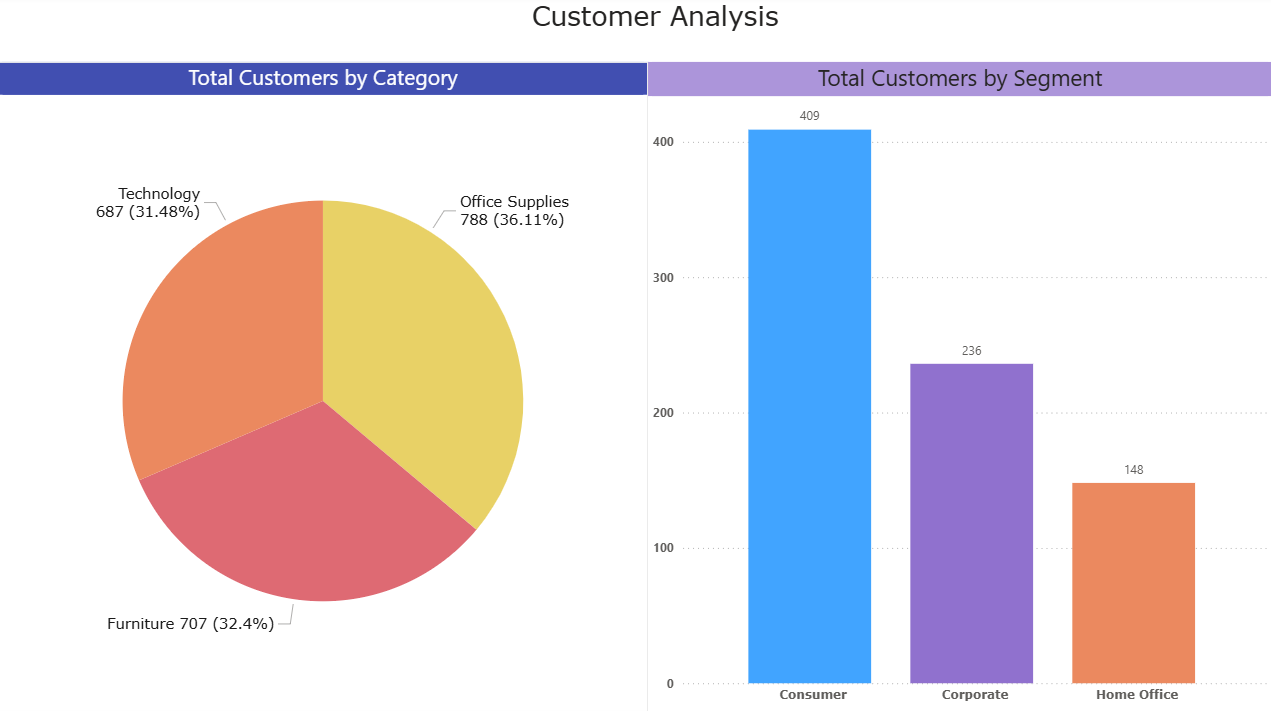

What the dashboard file says about the page in this screenshot:
{"tool":"powerbi","page":{"name":"Page 3","canvas":[1280,720],"ordinal":2},"visuals":[{"type":"pieChart","fields":{"Category":["Sales_data.Category"],"Y":["Sales_data.Total Customers"]},"box":[0,66.7,653.3,653.3],"z":0},{"type":"columnChart","fields":{"Y":["Sales_data.Total Customers"],"Category":["Sales_data.Segment"]},"box":[653.3,66.7,626.7,653.3],"z":1000},{"type":"textbox","box":[0,0,1280,66.7],"z":2000}]}

Visuals, with their boxes in screenshot pixels (x1, y1, x2, y2), scaled from the page's 1280x720 canvas onto the 1271x711 screenshot:
pieChart - Sales_data.Category x Sales_data.Total Customers: BBox(0, 66, 649, 710)
columnChart - Sales_data.Total Customers x Sales_data.Segment: BBox(649, 66, 1270, 710)
textbox: BBox(0, 0, 1270, 66)
